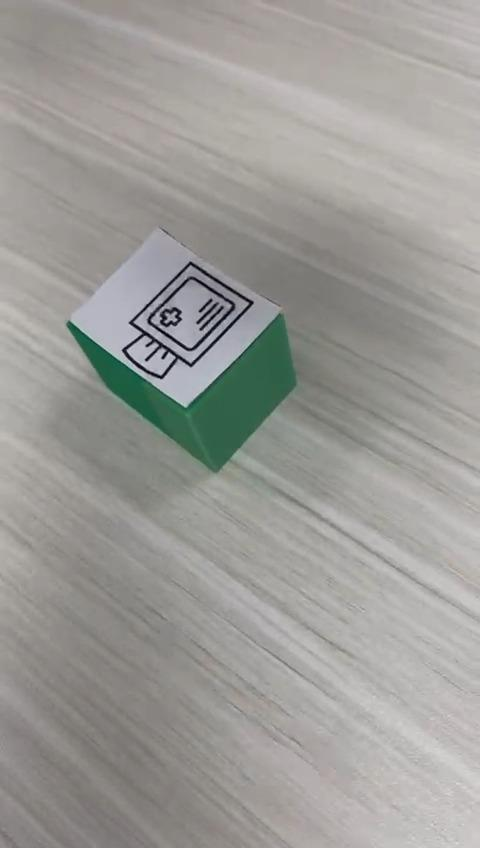Gauze: (65, 224, 297, 473)
